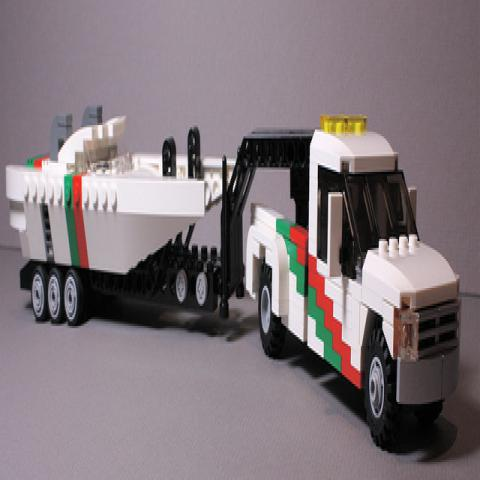truck: (5, 106, 463, 447)
